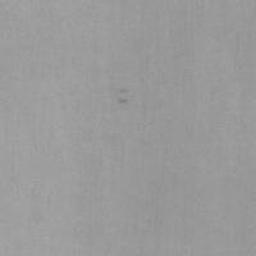Inclusion: (118, 97, 127, 104), (118, 87, 128, 92)
